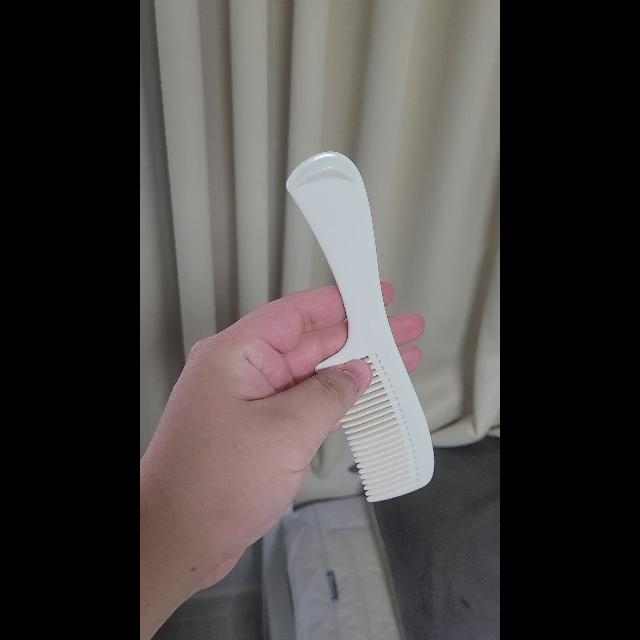COMB: (286, 152, 434, 502)
